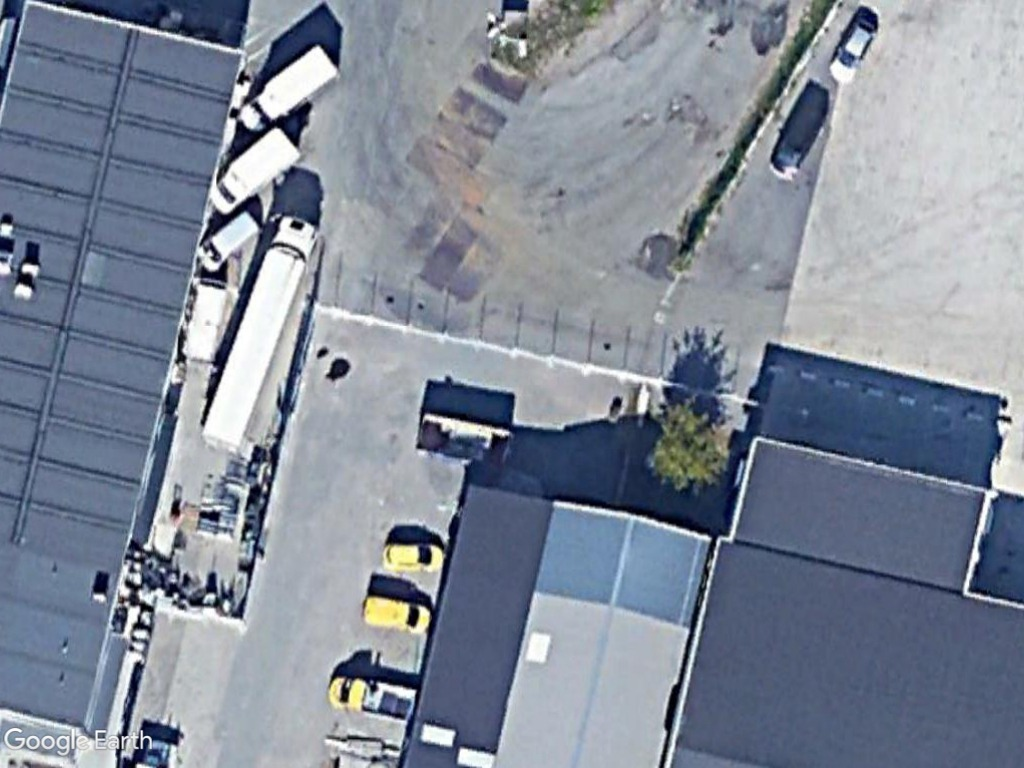car: (820, 12, 883, 90), (374, 534, 450, 577)
longvehicle: (193, 209, 325, 459)
other: (325, 667, 421, 727)
truck: (236, 40, 345, 136), (206, 114, 304, 214)
van: (761, 75, 833, 187), (190, 206, 263, 269), (355, 591, 437, 639)
